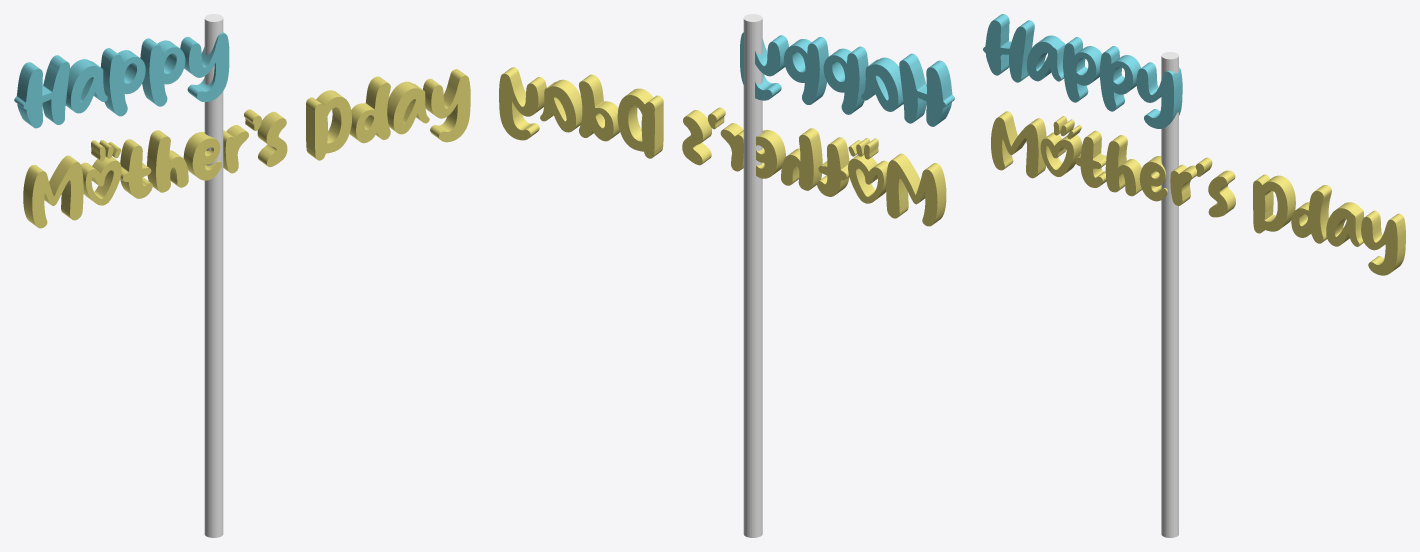
File: mother_stick3.glb
3 renders of one model, left to right at view 1: azimuth 30°, elevation 25°; view 2: azimuth 150°, elevation 25°; view 3: azimuth 330°, elevation 25°, orthographic. The views are drawn at different scales.
Parts seen in each view (by area): view 1: Text.001, Text, Cylinder; view 2: Text.001, Text, Cylinder; view 3: Text.001, Text, Cylinder.
Boxes of the visible parts, x1,y1,x2,y2 form: Text.001: (23, 69, 470, 228); Text: (14, 32, 229, 128); Cylinder: (204, 14, 223, 537); Text.001: (499, 67, 946, 226); Text: (740, 32, 954, 126); Cylinder: (743, 14, 762, 537); Text.001: (991, 111, 1405, 275); Text: (983, 14, 1182, 128); Cylinder: (1161, 52, 1178, 537).
Bounding box in the file's own units: 1.16 × 1.28 × 0.0473.
